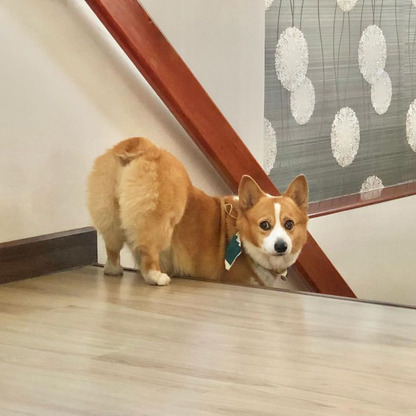Corgi: (76, 113, 336, 312)
